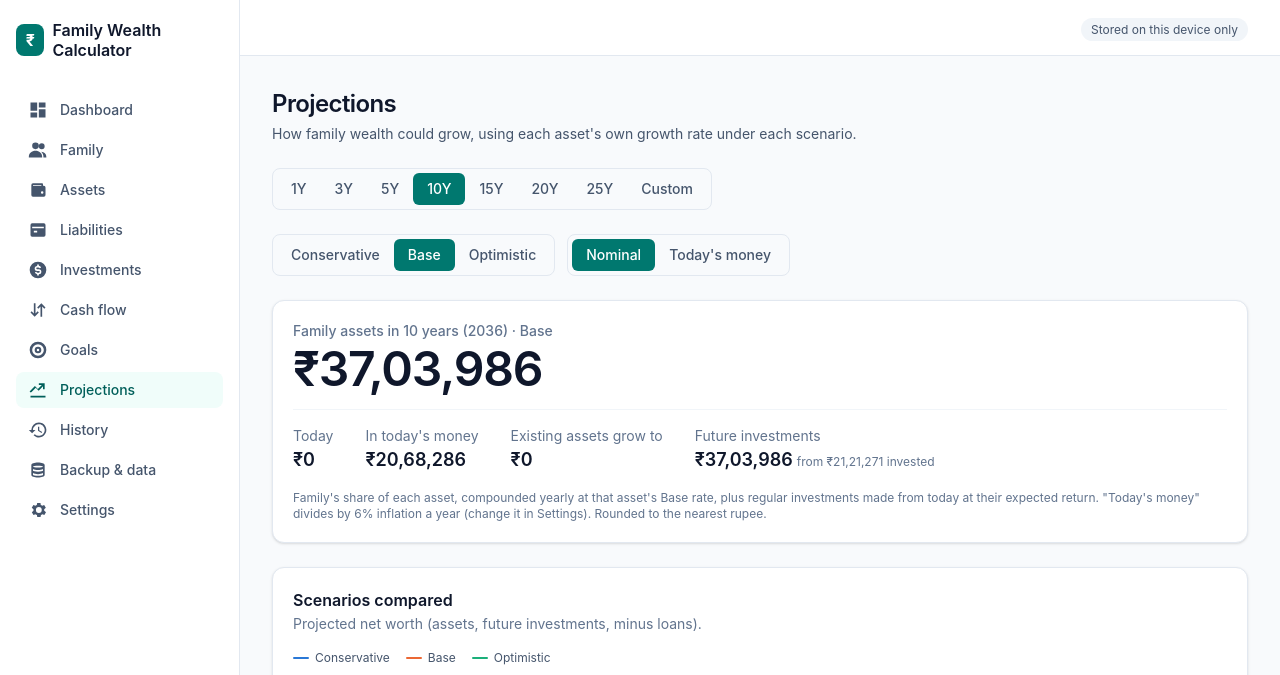
Scenario: Projections with regular investments › applies the saved annual increase (step-up) in projections
Click the radio button labelled "1Y".
click(299, 188)  # box [291,180,307,197]
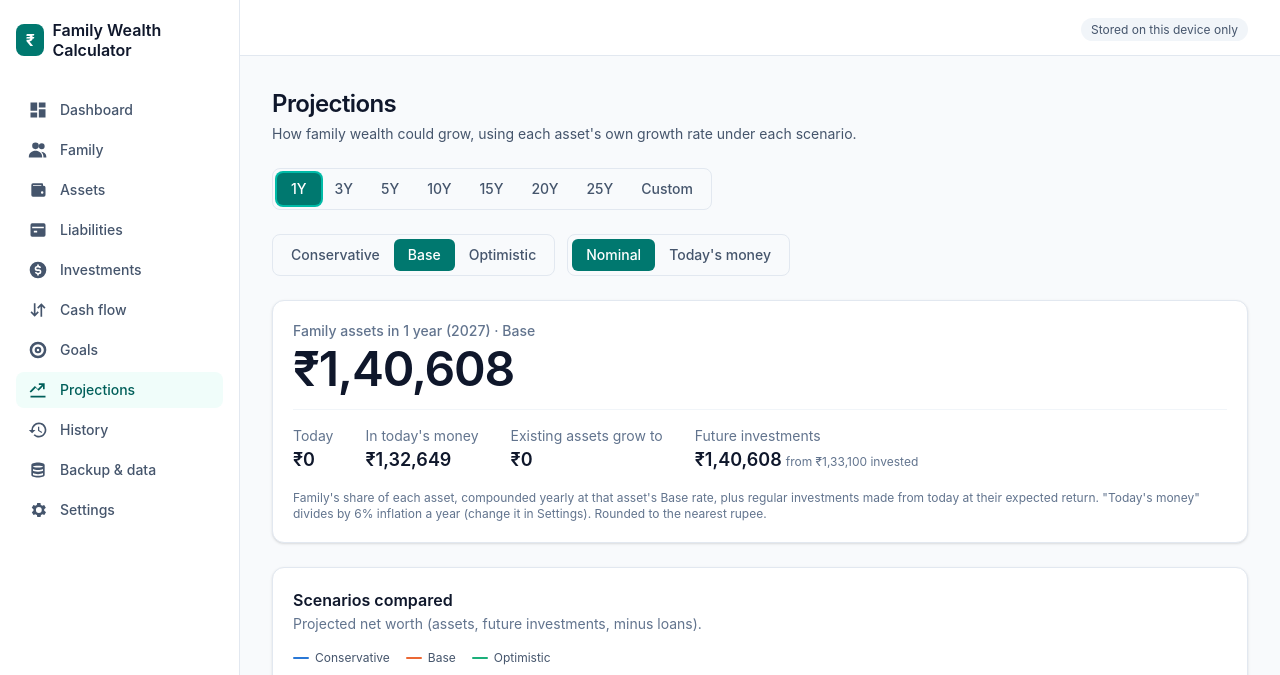
Result: the element with test id "projected-contributions" reads "₹1,40,608from ₹1,33,100 invested" at [695,449,918,470]
